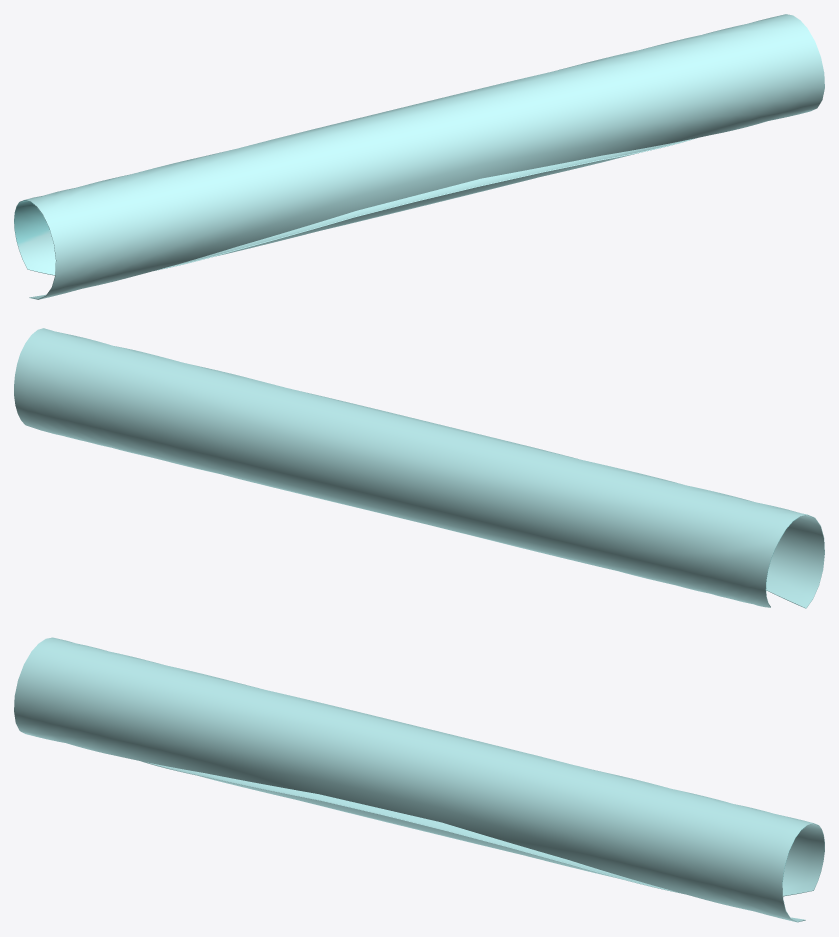
Rendered from Level 124.fbx.
The picture shows the model from 3 angles, top to bottom: view 1: azimuth 30°, elevation 25°; view 2: azimuth 150°, elevation 25°; view 3: azimuth 330°, elevation 25°; orthographic projection.
Visible parts, largest first — view 1: polySurface17; view 2: polySurface17; view 3: polySurface17.
Part boxes in pixels (left/top/right/bottom): polySurface17: left=14, top=14, right=824, bottom=299; polySurface17: left=14, top=328, right=824, bottom=608; polySurface17: left=14, top=637, right=824, bottom=922.
Size of what is drawn, in the model's own units: 907 by 102 by 102.
